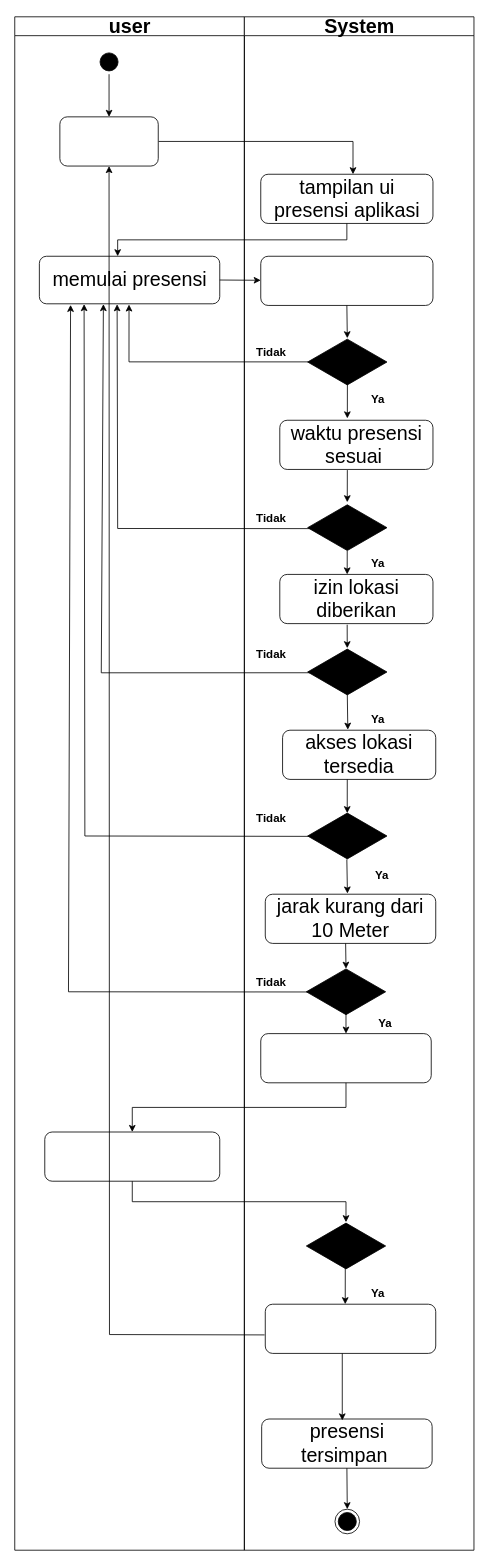
Some shapes in this 488 by 1565 pixel diagram are drawn without their labels. The centre of each missing label's shape, as x and y in pixels:
"dialog presensi" goes at point 345,1058.
"klik tombol 'presensi sekarang'" goes at point 132,1156.
"koneksi internet tersedia" goes at point 346,280.
"navigasi presensi" goes at point 108,141.
"presensi berhasil" goes at point 350,1328.
